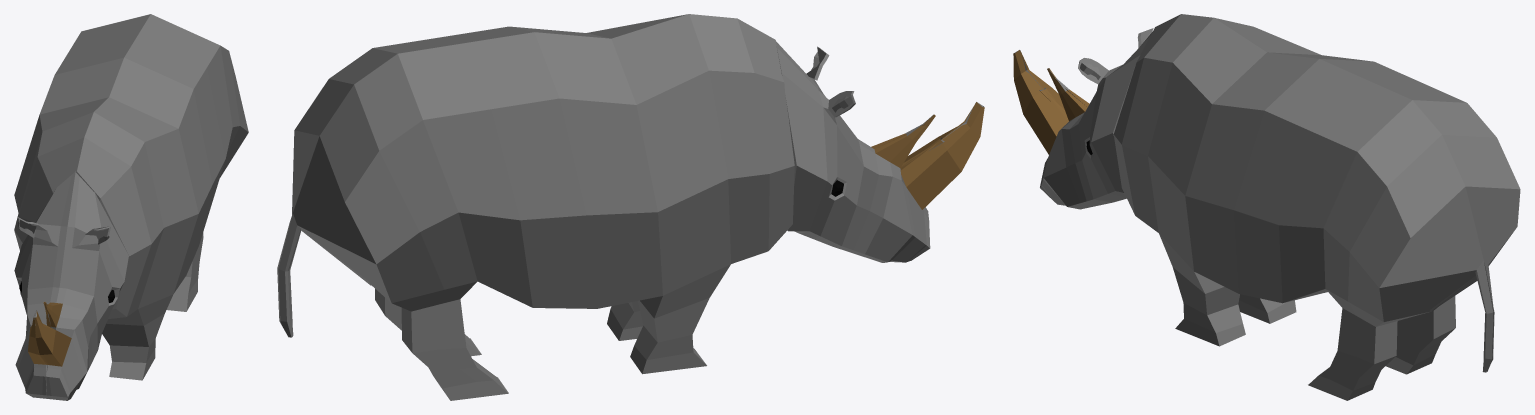
File: Mdl_Rihno.fbx
3 views of the same model, side by side, from view 1: azimuth 30°, elevation 25°; view 2: azimuth 150°, elevation 25°; view 3: azimuth 270°, elevation 25° (orthographic). The views are drawn at different scales.
Visible parts, largest first — view 1: Cube; view 2: Cube; view 3: Cube.
Boxes of the visible parts, left/top/right/bottom form: Cube: left=14, top=14, right=248, bottom=400; Cube: left=277, top=14, right=984, bottom=400; Cube: left=1013, top=14, right=1520, bottom=400.
Bounding box in the file's own units: 339 × 226 × 351.
